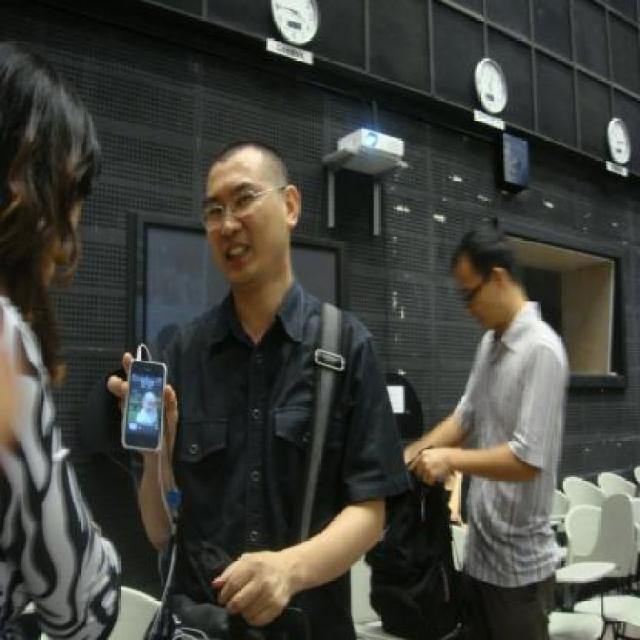phone: (106, 358, 166, 450)
